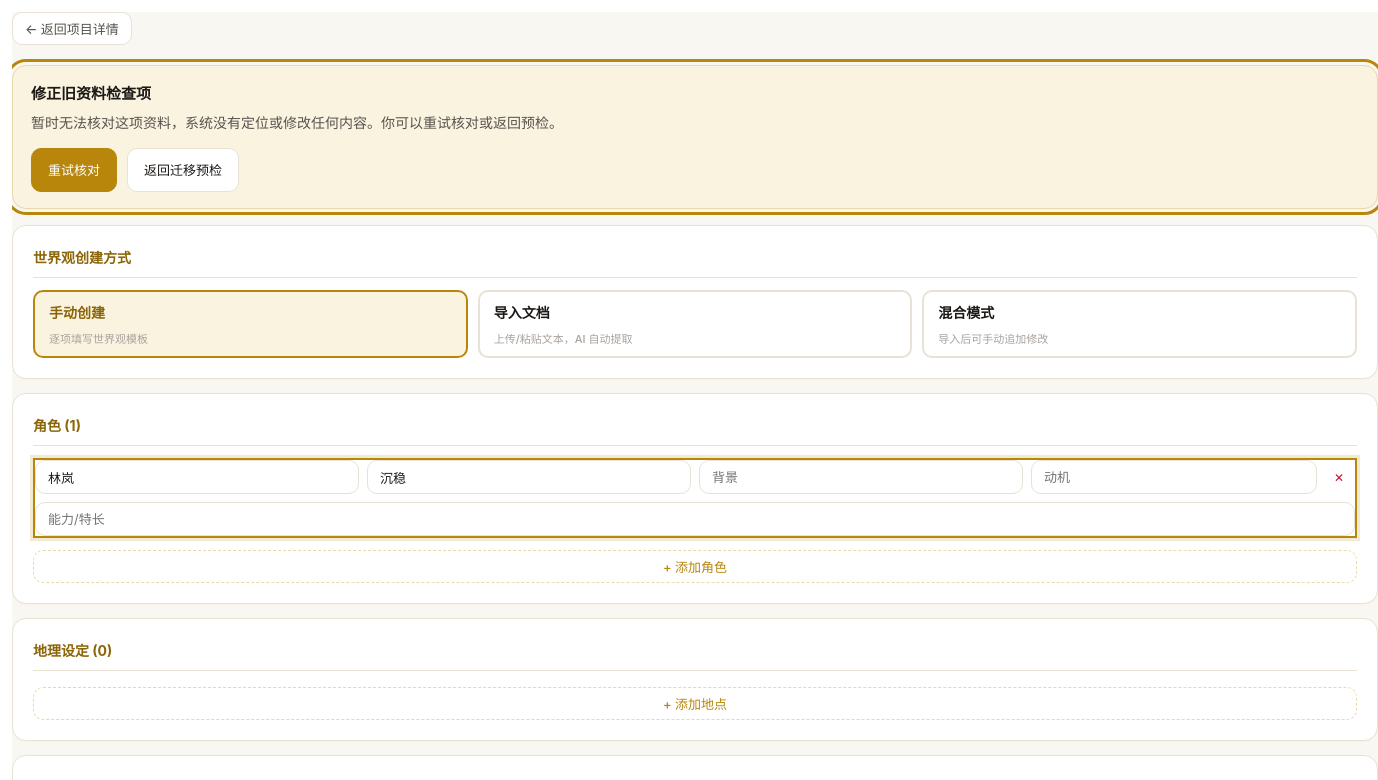
Test: WorldviewEditor maintenance drafts › separates migration preview network errors and supports an explicit retry
This screenshot has width=1378, height=780.
Expected: the text "暂时无法核对这项资料，系统没有定位或修改任何内容。你可以重试核对或返回预检。" is shown, [31,114,563,131]
Click the button "重试核对" at (74, 170), box [31,148,117,192]
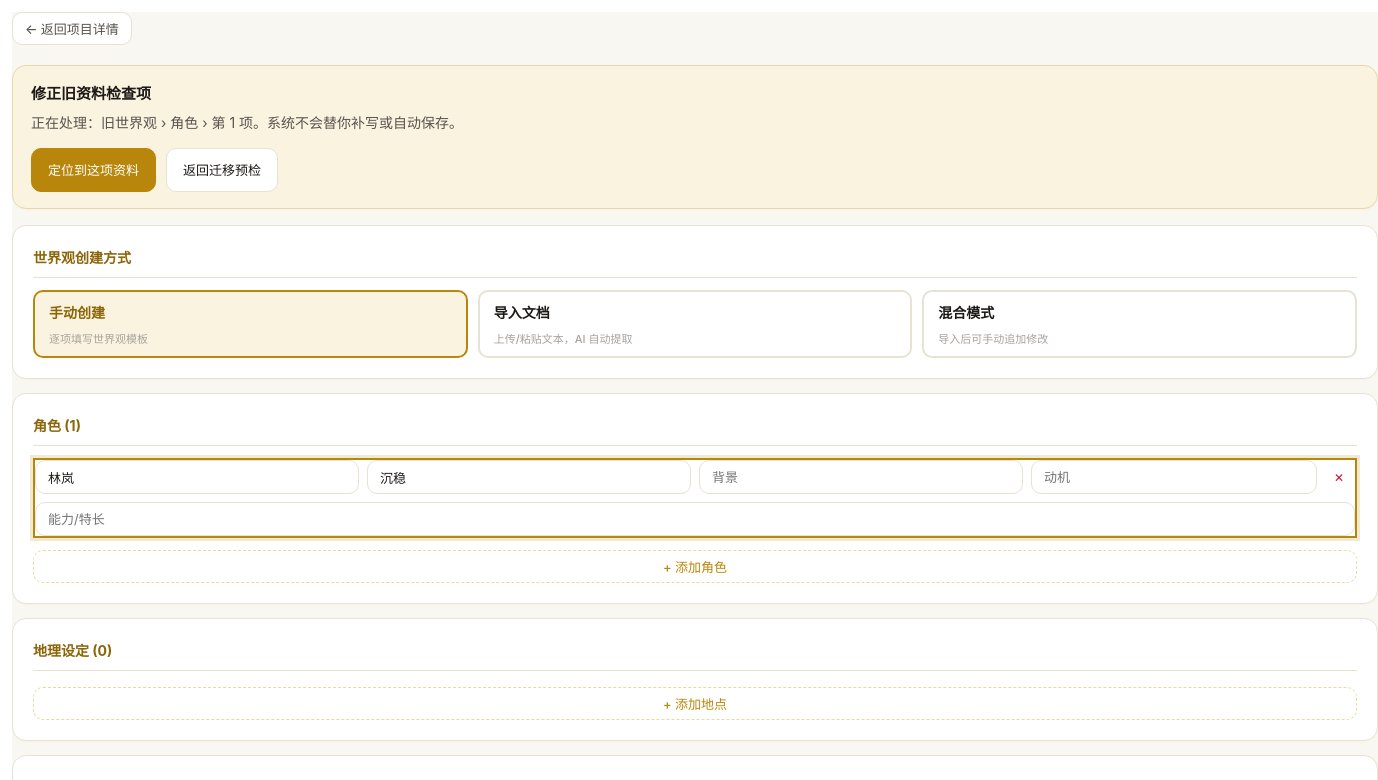
Expected: the button "定位到这项资料" is shown, [31,148,156,192]
